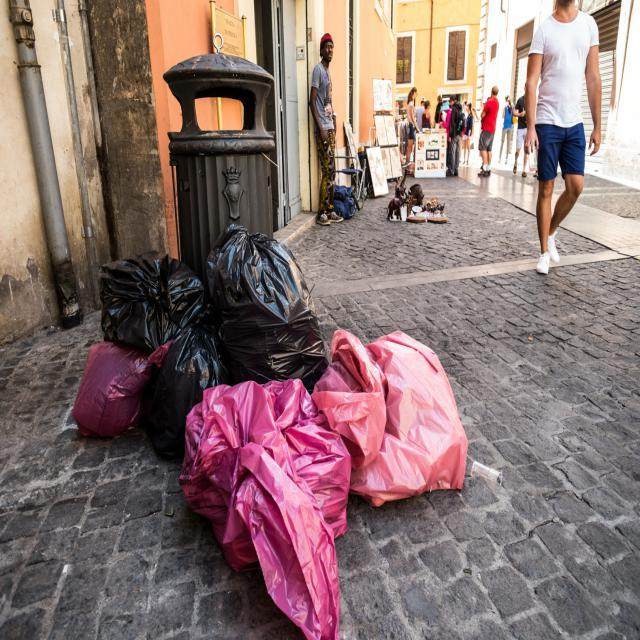trash: (54, 229, 474, 640)
